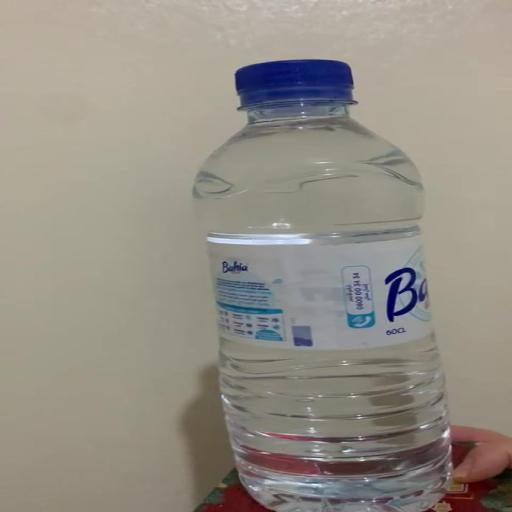bouteille conformite: (194, 60, 450, 511)
